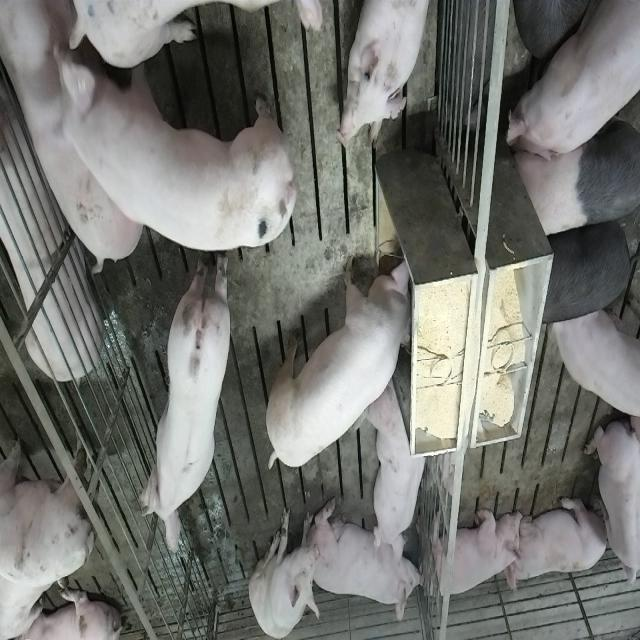Feeding: (270, 248, 422, 471)
Lateral_lying: (0, 8, 102, 384)
Sitting: (249, 503, 320, 638)
Standing: (51, 42, 298, 250), (137, 256, 233, 560), (503, 0, 638, 167), (510, 76, 638, 240), (0, 414, 103, 582), (538, 212, 638, 328), (550, 299, 640, 421)
Sternal_lying: (339, 2, 437, 152), (314, 503, 424, 627), (368, 382, 430, 562), (426, 502, 524, 604), (584, 416, 638, 600), (509, 492, 610, 590)
